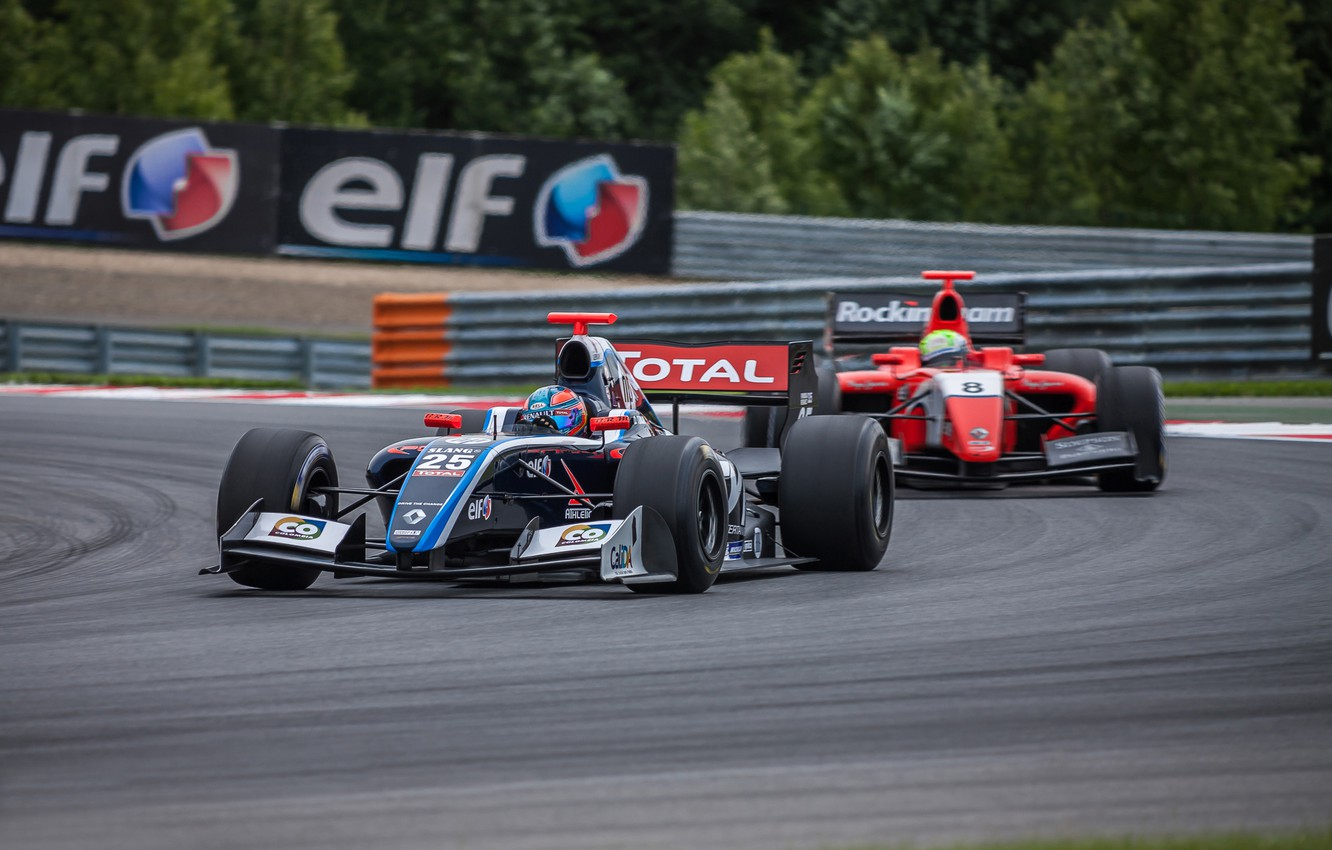f1_car: (186, 299, 916, 619), (732, 256, 1187, 509)
helmet: (511, 379, 597, 454), (911, 320, 980, 387)
